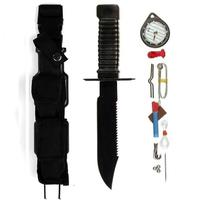knife: (83, 4, 134, 198)
